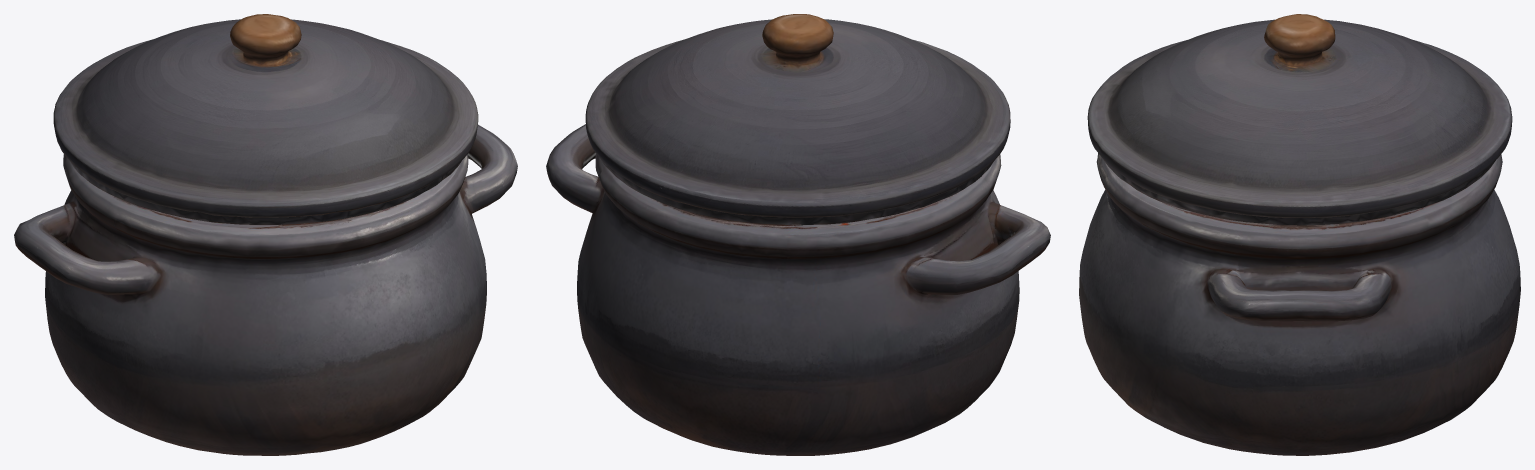
The model's file is SM_Prop_CookingPot.fbx.
3 views of the same model, side by side, from view 1: azimuth 30°, elevation 25°; view 2: azimuth 150°, elevation 25°; view 3: azimuth 270°, elevation 25° (orthographic).
Visible parts, largest first — view 1: SM_Prop_PotBody, SM_Prop_PotLid; view 2: SM_Prop_PotBody, SM_Prop_PotLid; view 3: SM_Prop_PotBody, SM_Prop_PotLid.
Boxes of the visible parts, x1,y1,x2,y2 form: SM_Prop_PotBody: (14,124,517,455); SM_Prop_PotLid: (53,14,478,224); SM_Prop_PotBody: (546,124,1050,455); SM_Prop_PotLid: (585,14,1010,225); SM_Prop_PotBody: (1079,153,1520,455); SM_Prop_PotLid: (1087,14,1512,225).
Bounding box in the file's own units: 45.86 × 35.65 × 37.9.
